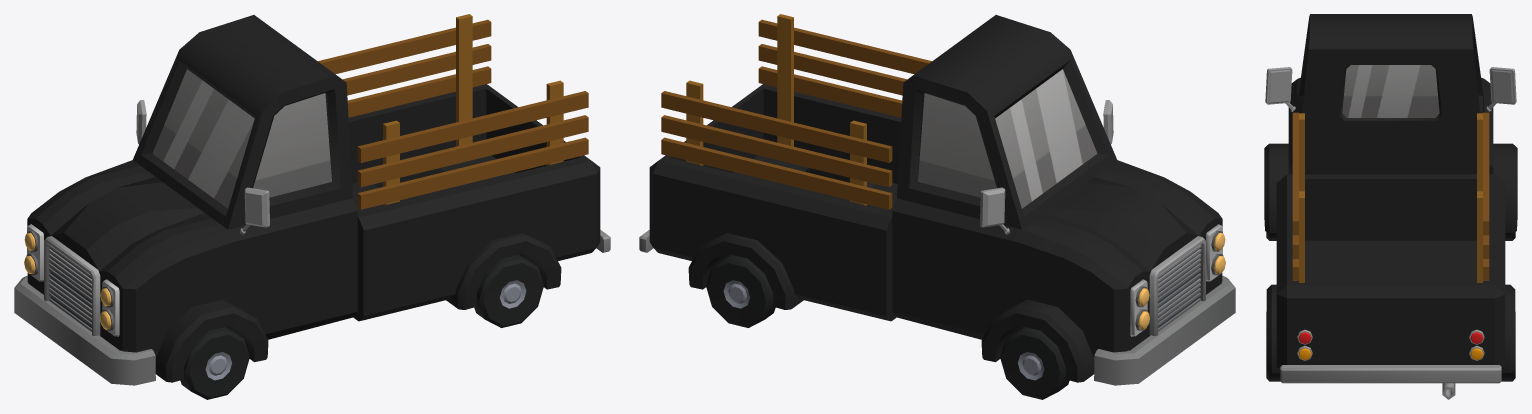
The model's file is Car_12_T.gltf.
The picture shows the model from 3 angles, left to right: view 1: azimuth 30°, elevation 25°; view 2: azimuth 150°, elevation 25°; view 3: azimuth 270°, elevation 25°; orthographic projection. The views are drawn at different scales.
Parts seen in each view (by area): view 1: Car_12_T, RL, FL; view 2: Car_12_T, RR, FR; view 3: Car_12_T.
Boxes of the visible parts, x1,y1,x2,y2 form: Car_12_T: [14, 14, 610, 385]; RL: [474, 255, 544, 327]; FL: [180, 327, 249, 399]; Car_12_T: [639, 14, 1235, 385]; RR: [705, 255, 775, 327]; FR: [1000, 327, 1069, 399]; Car_12_T: [1264, 14, 1517, 399].
Size of the model in its own units: 3.82 by 2.01 by 1.73.
4 materials, 4 textured.
